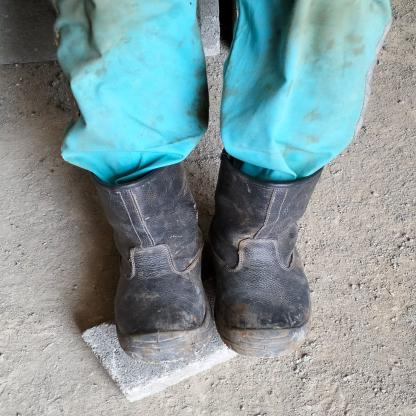bota: (74, 160, 212, 364), (208, 152, 316, 354)
